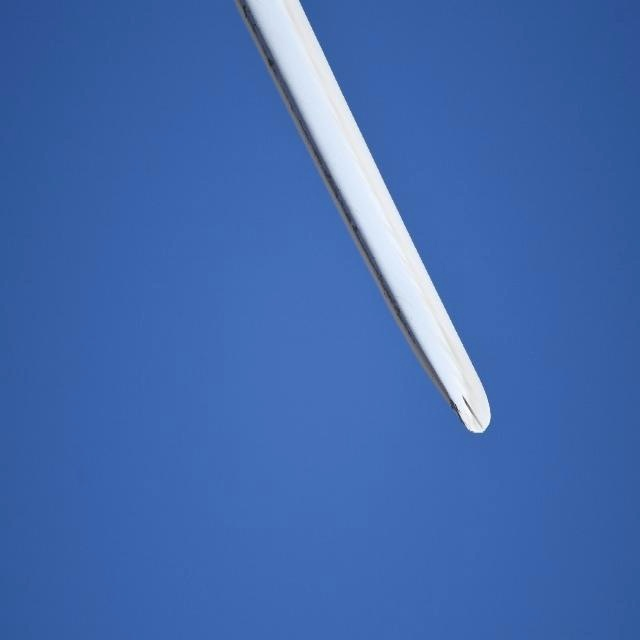Burn Mark: (463, 395, 484, 430)
Coating_defects: (448, 386, 461, 420)
EROSION: (347, 232, 412, 338), (244, 5, 277, 80), (317, 155, 355, 214)
